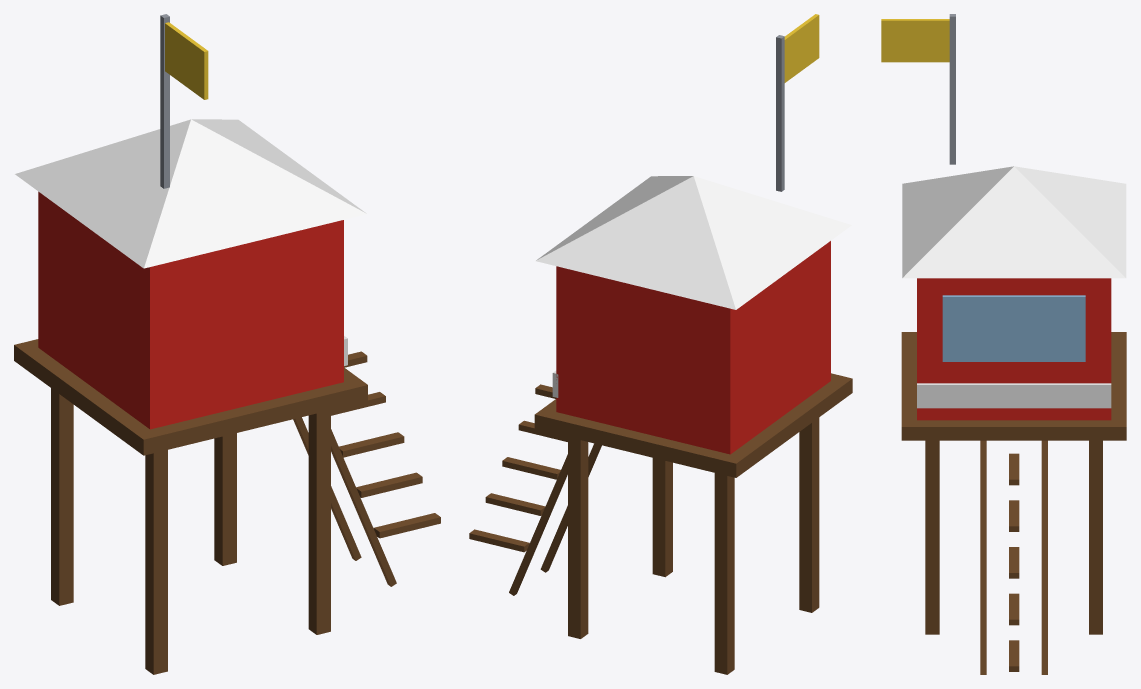
Rendered from caseta_salvavidas.obj.
3 views of the same model, side by side, from view 1: azimuth 30°, elevation 25°; view 2: azimuth 150°, elevation 25°; view 3: azimuth 270°, elevation 25° (orthographic). The views are drawn at different scales.
Parts seen in each view (by area): view 1: caseta_salvavidas; view 2: caseta_salvavidas; view 3: caseta_salvavidas.
Part boxes in pixels (x1,y1,x2,y2): caseta_salvavidas: (14,14,440,674); caseta_salvavidas: (469,14,852,674); caseta_salvavidas: (881,14,1126,674).
Size of the model in its own units: 3.52 by 6.01 by 2.4.
